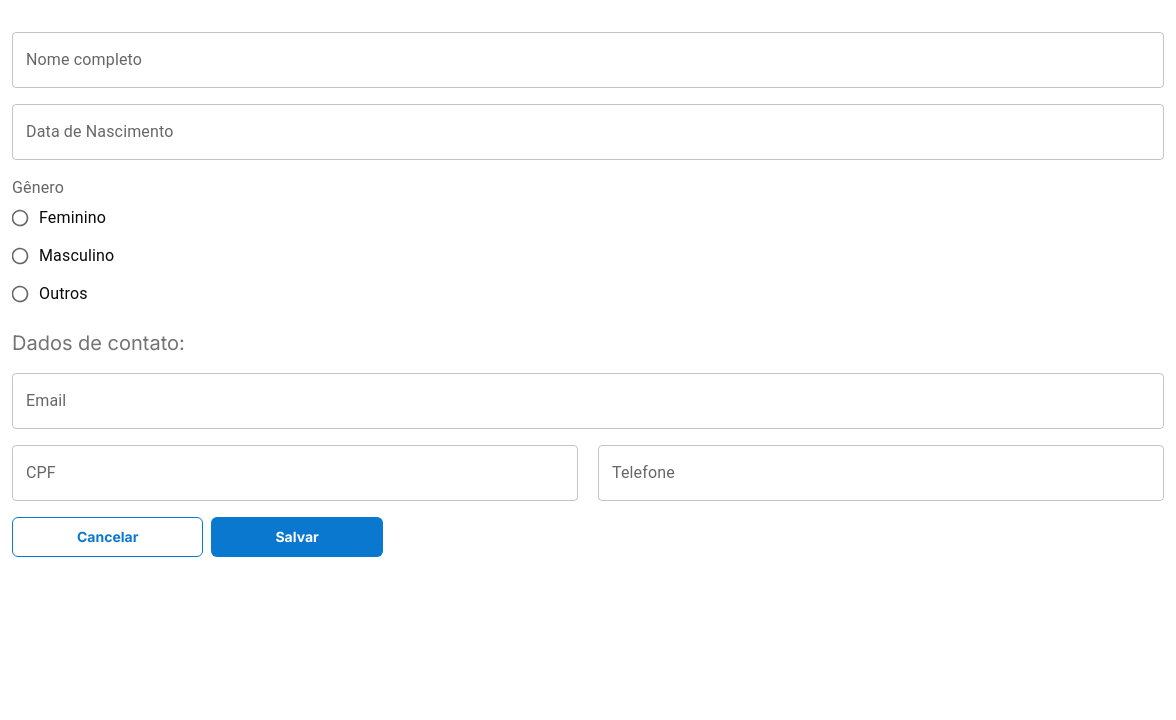
Test: RenterForm › should display error when submitting the form without required fields
Click the button "Salvar".
click(297, 537)  # box [211,517,383,557]
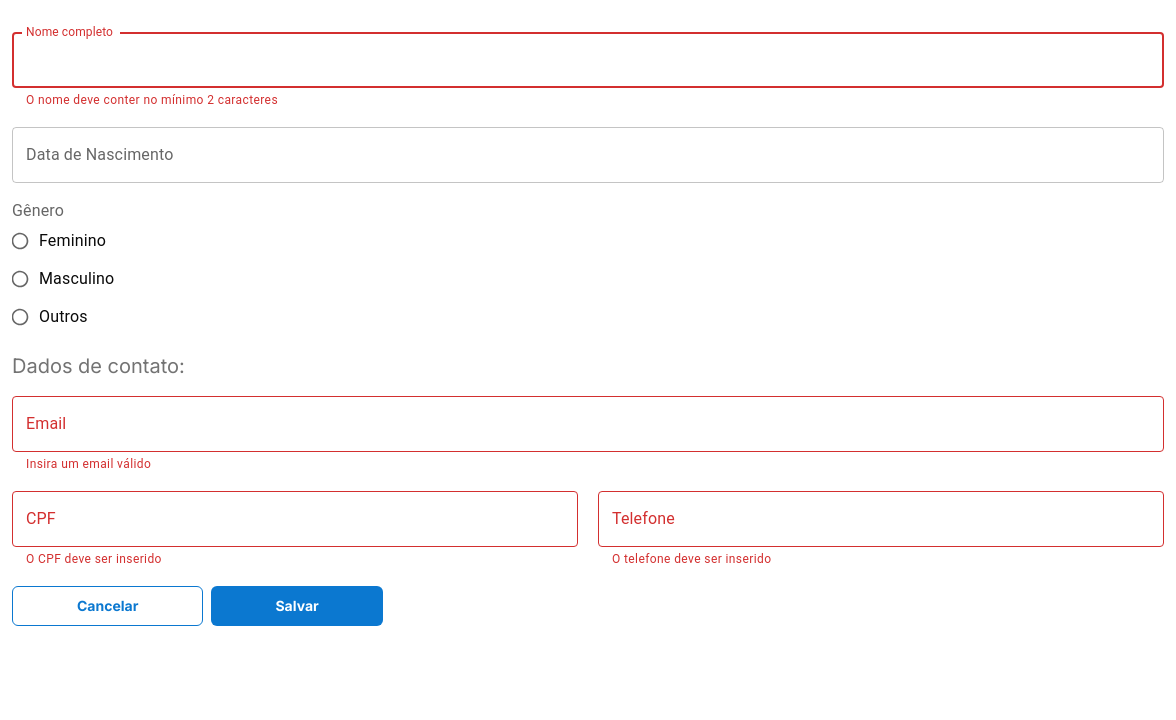
Result: the text "O nome deve conter no mínimo 2 caracteres" is shown at [26,93,278,107]
Result: the text "Insira um email válido" is shown at [26,457,151,471]
Result: the text "O CPF deve ser inserido" is shown at [26,552,162,566]
